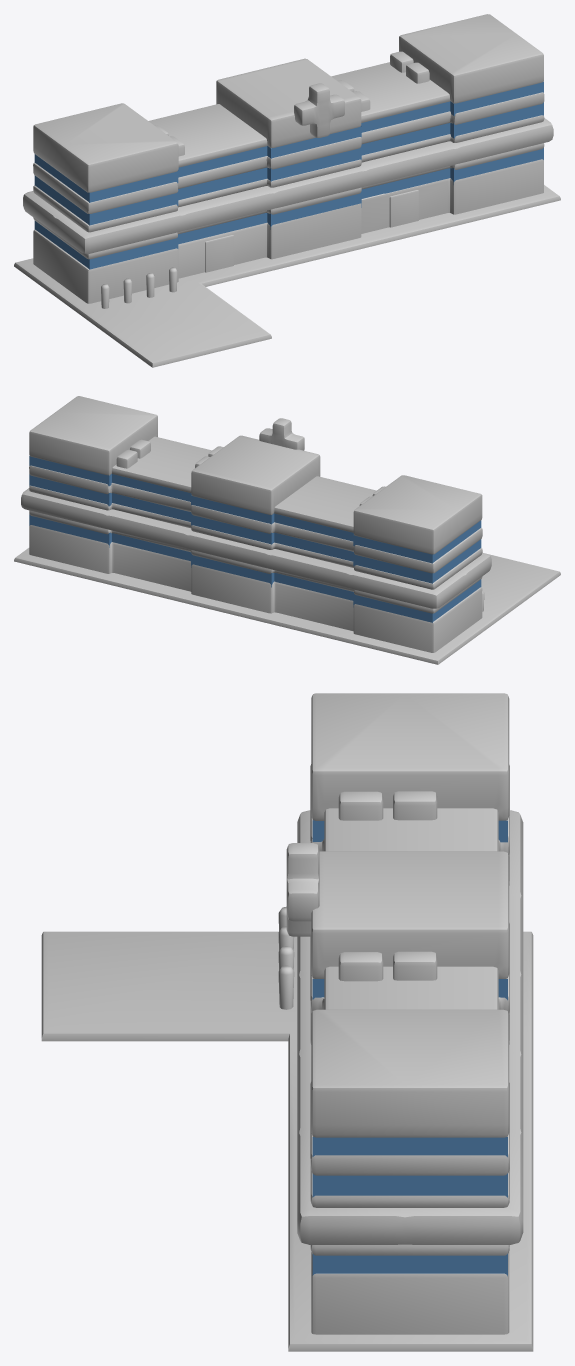
The model's file is hospital.fbx.
The picture shows the model from 3 angles, top to bottom: view 1: azimuth 30°, elevation 25°; view 2: azimuth 150°, elevation 25°; view 3: azimuth 270°, elevation 25°; orthographic projection. The views are drawn at different scales.
Visible parts, largest first — view 1: edificio_5, ventanas, base, logoHospital; view 2: edificio_5, ventanas, base, logoHospital; view 3: edificio_5, base, ventanas, logoHospital.
Boxes of the visible parts, <box> form: edificio_5: <box>23,14,553,303</box>; ventanas: <box>34,81,543,269</box>; base: <box>14,185,560,367</box>; logoHospital: <box>101,51,429,308</box>; edificio_5: <box>21,396,491,652</box>; ventanas: <box>29,456,481,622</box>; base: <box>14,548,560,664</box>; logoHospital: <box>116,418,484,611</box>; edificio_5: <box>297,693,523,1334</box>; base: <box>41,931,533,1351</box>; ventanas: <box>312,820,507,1276</box>; logoHospital: <box>278,791,437,1009</box>.
Size of the model in its own units: 400 by 135 by 201.
